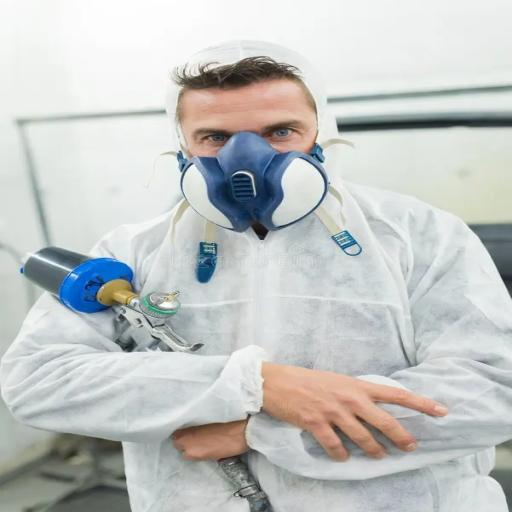mask: (149, 135, 365, 241)
